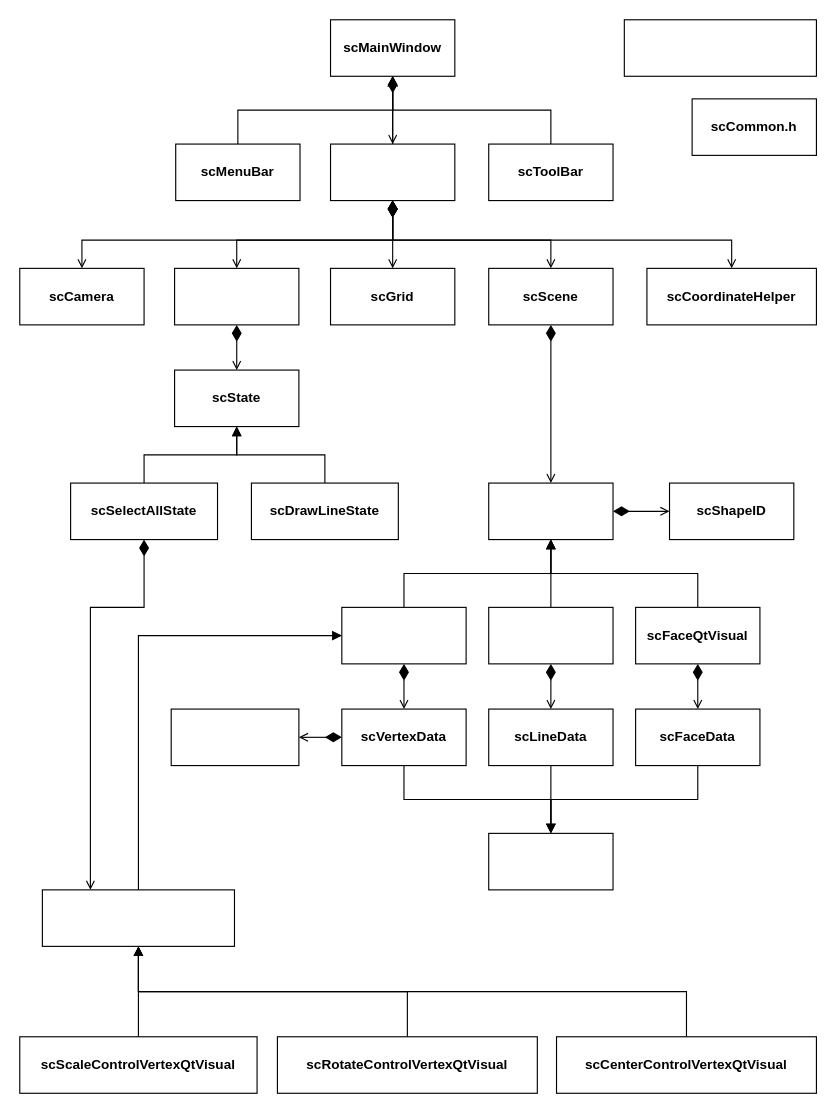
This 836x1113 diagram has some shape labels left out. Here are the shapes that lost their labels. From the top down, the centre of each, then its label:
[719,47]: scMatrixVectorHelper.h
[392,172]: scViewport
[236,296]: scStateMachine
[550,511]: scShapeQtVisual
[403,635]: scVertexQtVisual
[550,635]: scLineQtVisual
[234,737]: scTransform
[550,861]: scShapeData
[137,917]: scControlVertexQtVisual
